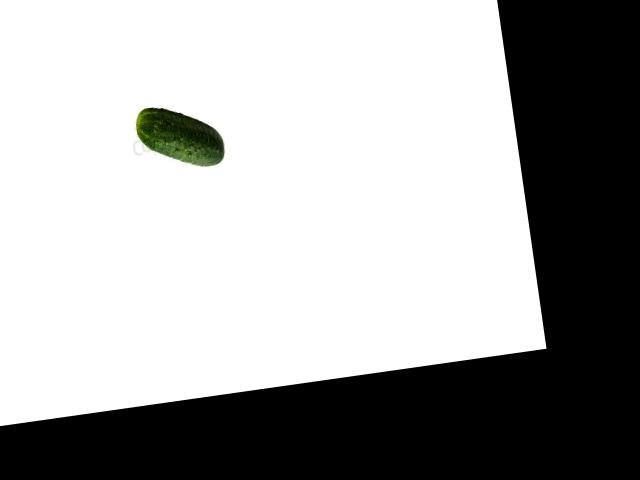cucumber: (134, 98, 227, 175)
